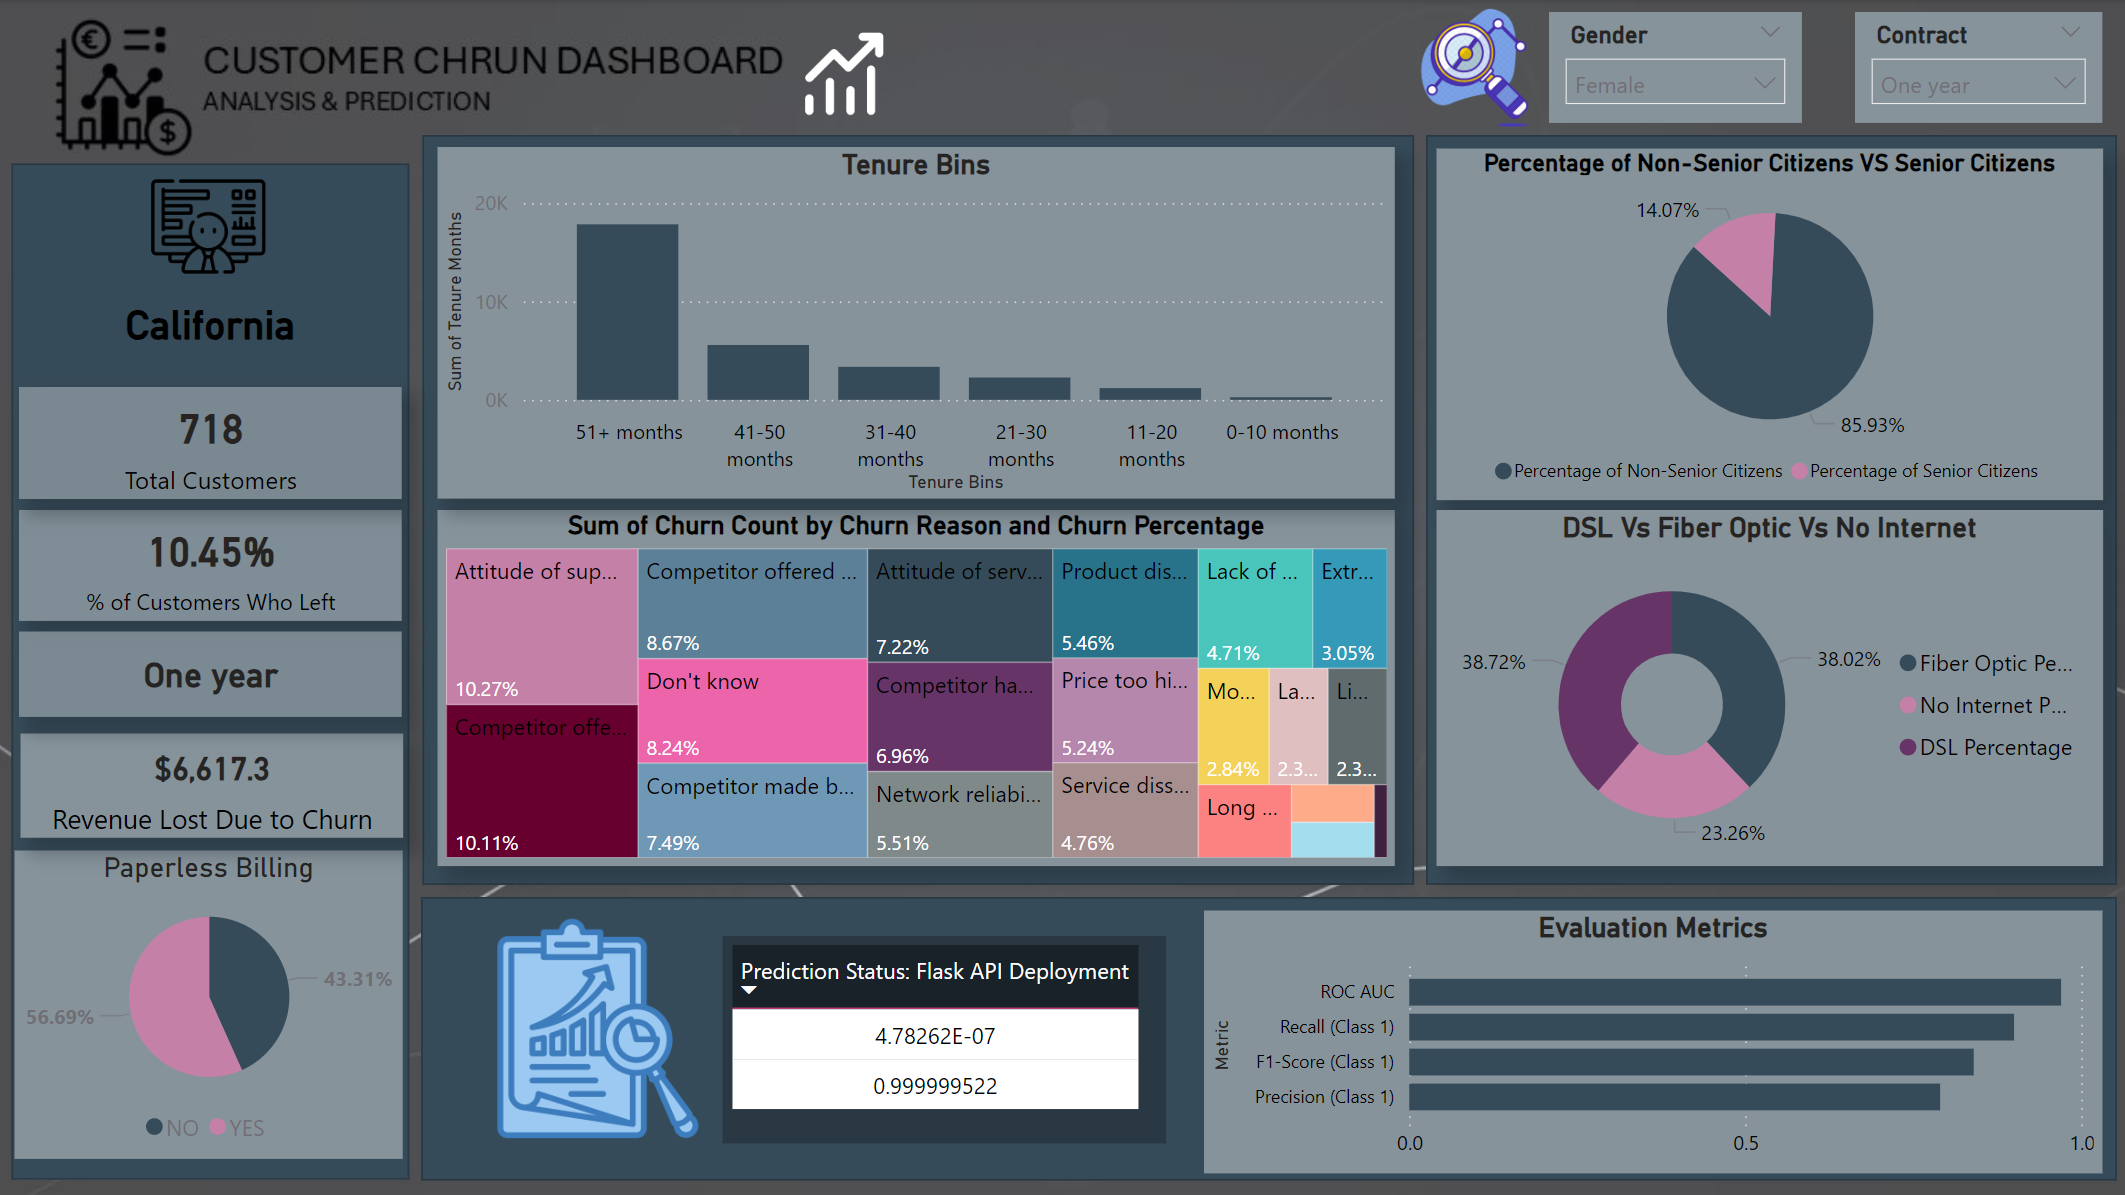

This screenshot's page, from the dashboard's own definition file:
{"tool":"powerbi","page":{"name":"Page 1","canvas":[1280,720],"ordinal":0},"visuals":[{"type":"shape","box":[253.9,538.8,1019.2,170.4],"z":0},{"type":"shape","box":[857.9,81.2,415.2,450.7],"z":1000},{"type":"shape","box":[255.1,81.2,596,450.7],"z":2000},{"type":"shape","box":[8,98.4,239.1,610.8],"z":3000},{"type":"pieChart","title":"Paperless Billing","fields":{"Y":["ChurnAnalysisTable.Paperless Billing No Percentage","ChurnAnalysisTable.Paperless Billing Yes Percentage"]},"box":[10.3,511.3,233.4,185.3],"z":4000},{"type":"treemap","fields":{"Group":["ChurnAnalysisTable.Churn Reason"],"Details":["ChurnAnalysisTable.Churn Percentage"],"Values":["Sum(ChurnAnalysisTable.Churn Count)"]},"box":[264.2,306.6,575.4,213.9],"z":5000},{"type":"card","fields":{"Values":["ChurnAnalysisTable.Chrun Rate"]},"box":[12.6,306.6,229.9,66.3],"z":6000},{"type":"card","fields":{"Values":["ChurnAnalysisTable.Total Revenue Lost Due to Churn"]},"box":[13.7,440.4,229.9,62.9],"z":7000},{"type":"card","fields":{"Values":["Min(cleaned_data.Contract)"]},"box":[12.6,379.8,229.9,51.5],"z":8000},{"type":"slicer","fields":{"Values":["cleaned_data.Gender"]},"box":[932.3,6.9,152.1,66.3],"z":9000},{"type":"slicer","fields":{"Values":["cleaned_data.Contract"]},"box":[1116.4,6.9,148.7,66.3],"z":10000},{"type":"columnChart","title":" Tenure Bins","fields":{"Category":["cleaned_data.Tenure Bins"],"Y":["Sum(cleaned_data.Tenure Months)"]},"box":[264.2,88.1,575.4,211.6],"z":11000},{"type":"pieChart","title":"Percentage of Non-Senior Citizens VS Senior Citizens","fields":{"Y":["ChurnAnalysisTable.Percentage of Non-Senior Citizens","ChurnAnalysisTable.Percentage of Senior Citizens"]},"box":[864.8,89.2,400.4,211.6],"z":12000},{"type":"card","fields":{"Values":["ChurnAnalysisTable.Total Customers"]},"box":[12.6,232.2,229.9,67.5],"z":13000},{"type":"donutChart","title":"DSL Vs Fiber Optic Vs No Internet ","fields":{"Y":["ChurnAnalysisTable.Fiber Optic Percentage","ChurnAnalysisTable.No Internet Percentage","ChurnAnalysisTable.DSL Percentage"]},"box":[864.8,306.6,400.4,213.9],"z":14000},{"type":"image","box":[843,0,89.2,81.2],"z":15000},{"type":"image","box":[51.5,96.1,149.8,78.9],"z":16000},{"type":"tableEx","fields":{"Values":["HTML Code (2).HTML Code (2)"]},"box":[435.8,562.8,266.5,124.7],"z":17000},{"type":"clusteredBarChart","title":"Evaluation Metrics","fields":{"Y":["Sum(model_metrics.Value)"],"Category":["model_metrics.Metric"]},"box":[725.2,546.8,539.9,157.9],"z":18000},{"type":"card","fields":{"Values":["Min(cleaned_data.State)"]},"box":[58.3,175,137.3,38.9],"z":19000},{"type":"image","box":[472.4,0,69.8,88.1],"z":20000},{"type":"image","box":[284.8,538.8,151,157.9],"z":21000}]}

Visuals, with their boxes in screenshot pixels (x1, y1, x2, y2), scaled from the page's 1280x720 canvas onto the 2125x1195 screenshot:
shape: select_region(422, 894, 2114, 1177)
shape: select_region(1424, 135, 2114, 883)
shape: select_region(424, 135, 1413, 883)
shape: select_region(13, 163, 410, 1177)
"Paperless Billing" pieChart: select_region(17, 849, 405, 1156)
treemap - ChurnAnalysisTable.Churn Reason x ChurnAnalysisTable.Churn Percentage: select_region(439, 509, 1394, 864)
card - ChurnAnalysisTable.Chrun Rate: select_region(21, 509, 403, 619)
card - ChurnAnalysisTable.Total Revenue Lost Due to Churn: select_region(23, 731, 404, 835)
card - Min(cleaned_data.Contract): select_region(21, 630, 403, 716)
slicer - cleaned_data.Gender: select_region(1548, 11, 1800, 121)
slicer - cleaned_data.Contract: select_region(1853, 11, 2100, 121)
" Tenure Bins" columnChart: select_region(439, 146, 1394, 497)
"Percentage of Non-Senior Citizens VS Senior Citizens" pieChart: select_region(1436, 148, 2100, 499)
card - ChurnAnalysisTable.Total Customers: select_region(21, 385, 403, 497)
"DSL Vs Fiber Optic Vs No Internet " donutChart: select_region(1436, 509, 2100, 864)
image: select_region(1400, 0, 1548, 135)
image: select_region(85, 159, 334, 290)
tableEx - HTML Code (2).HTML Code (2): select_region(723, 934, 1166, 1141)
"Evaluation Metrics" clusteredBarChart: select_region(1204, 908, 2100, 1170)
card - Min(cleaned_data.State): select_region(97, 290, 325, 355)
image: select_region(784, 0, 900, 146)
image: select_region(473, 894, 723, 1156)
